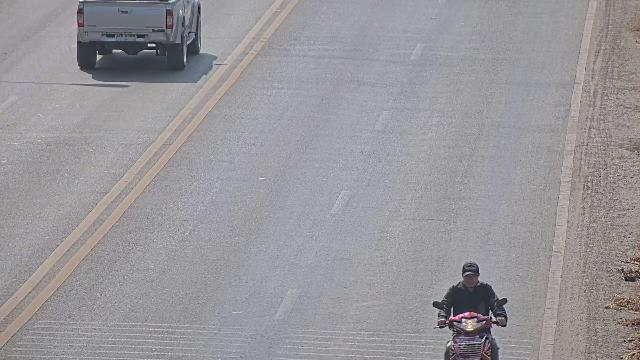motorcycle: (430, 282, 510, 360)
pickup-truck: (75, 0, 202, 71)
